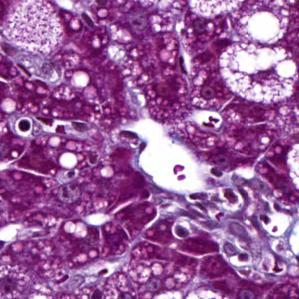ballooning: (219, 43, 298, 106), (235, 3, 291, 46)
